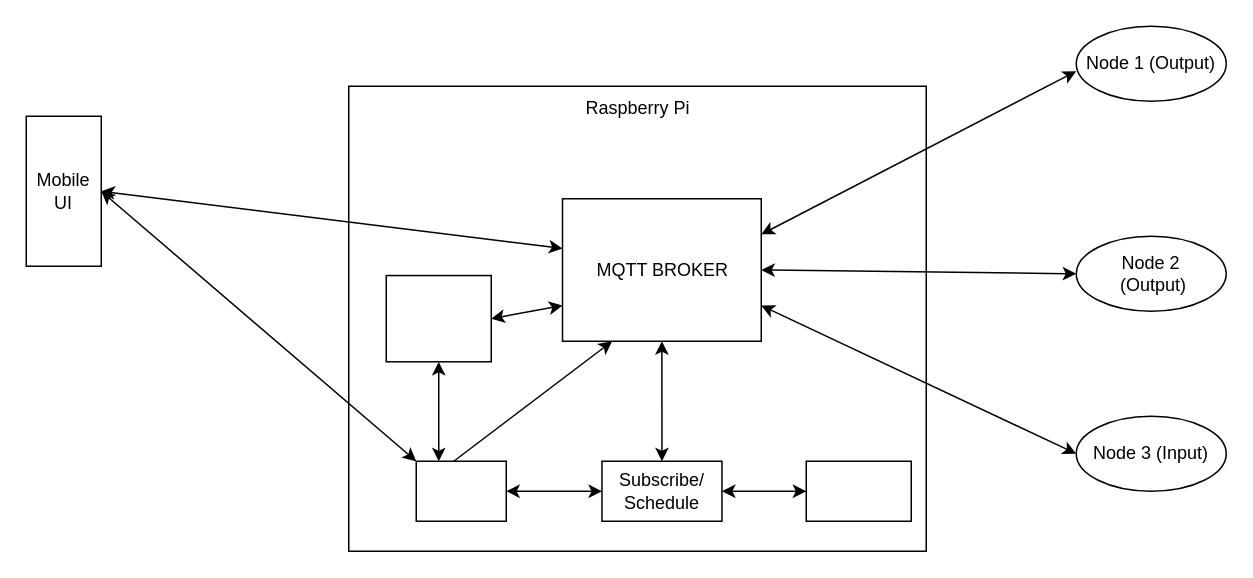
Some shapes in this 1253 by 578 pixel diagram are drawn without their labels. Each missing label, with the centre of its shape:
Cronjobs (schedules): (x=858, y=490)
Database: (x=460, y=490)
UI: (x=438, y=318)
